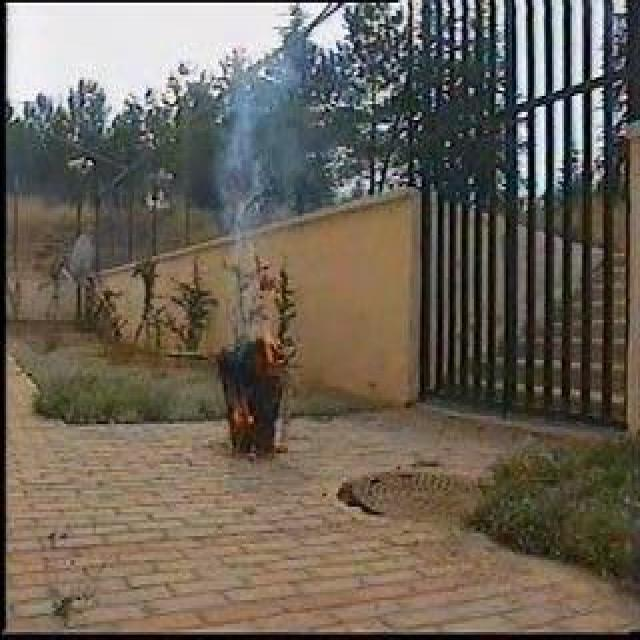fire: (258, 313, 292, 380)
smoke: (216, 70, 274, 246)
